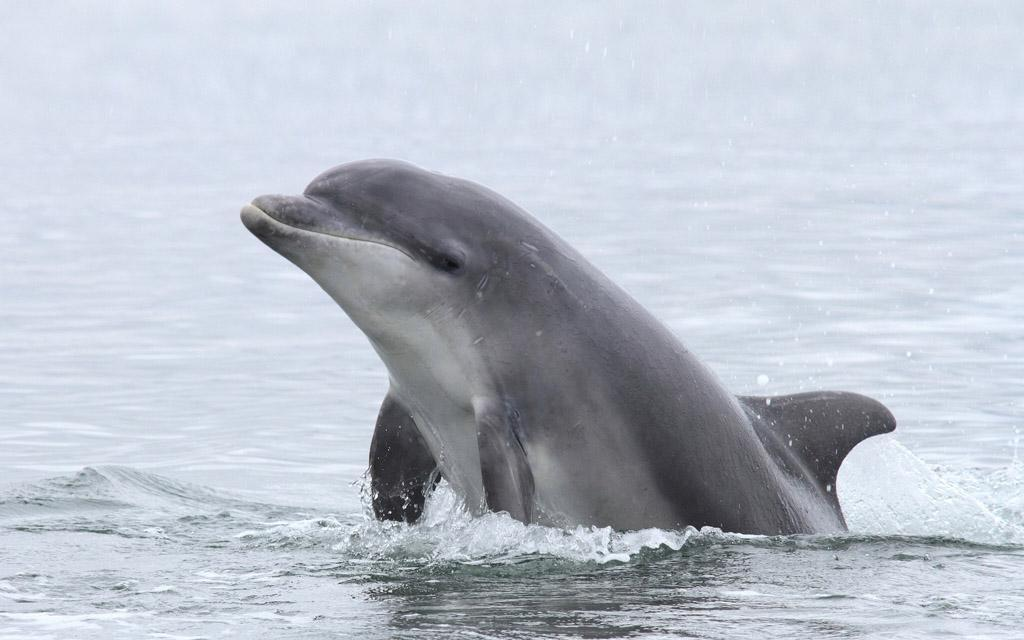fish: (238, 149, 898, 551)
